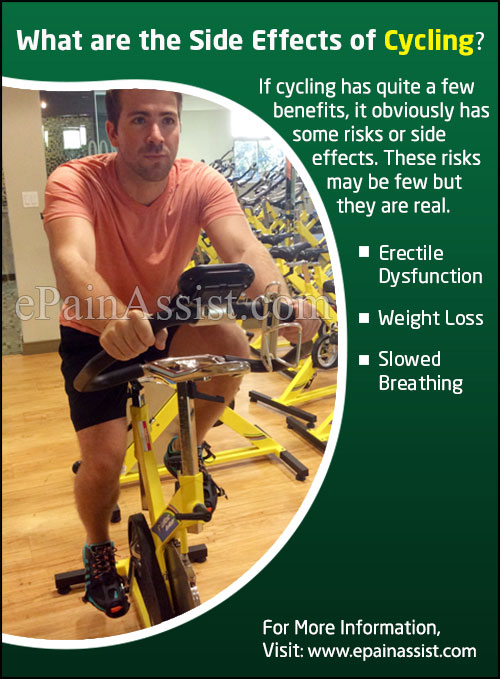gym_bike: (64, 270, 290, 635)
